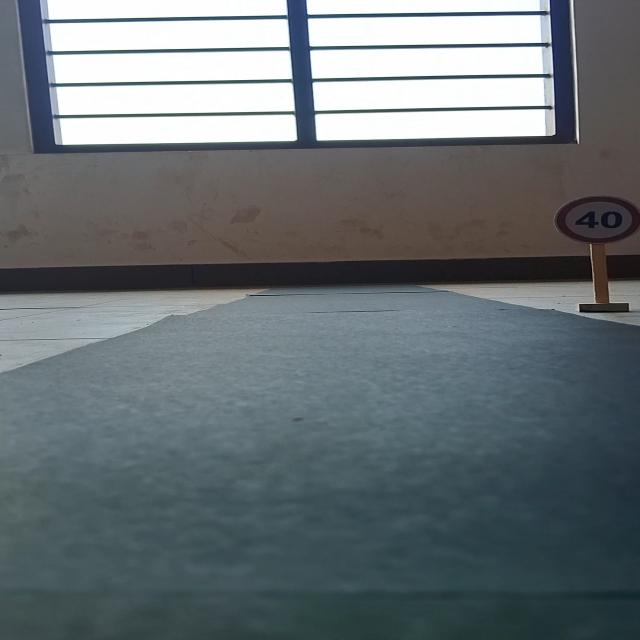Speed40: (549, 194, 640, 243)
